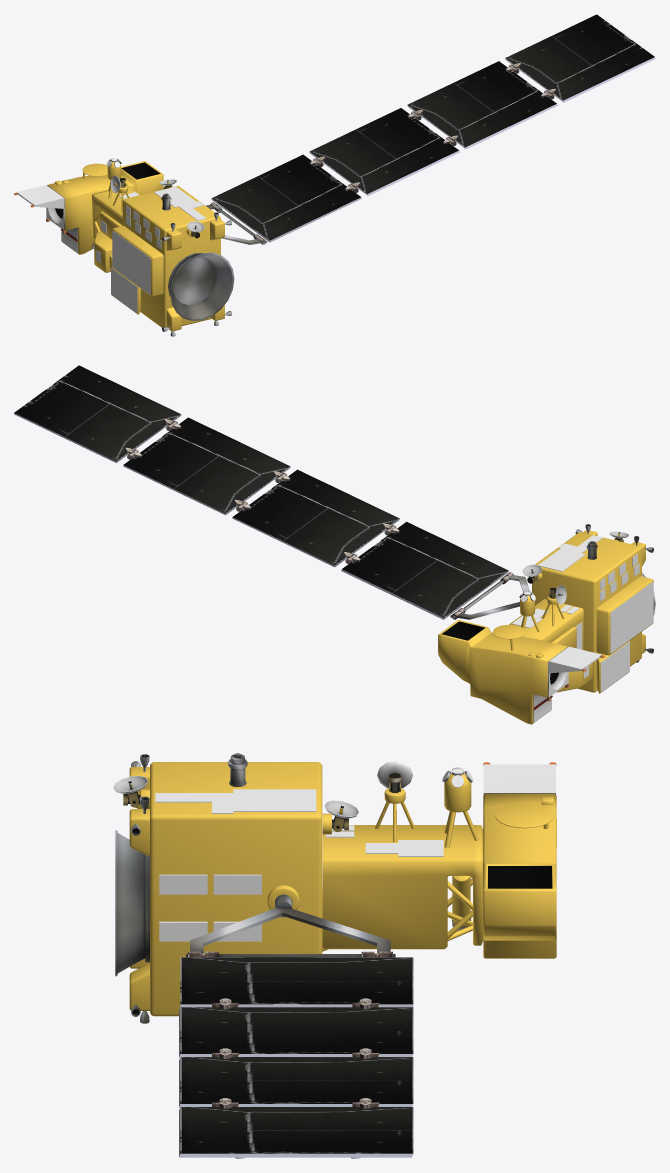
File: LandSat7.gltf
The picture shows the model from 3 angles, top to bottom: view 1: azimuth 30°, elevation 25°; view 2: azimuth 150°, elevation 25°; view 3: azimuth 270°, elevation 25°; orthographic projection. The views are drawn at different scales.
Visible parts, largest first — view 1: instruments, BUS, Reflectors; view 2: instruments, BUS, Reflectors; view 3: instruments, BUS, Reflectors.
Part boxes in pixels (x1=…): instruments: x1=14, y1=14, x2=655, y2=336; BUS: x1=47, y1=161, x2=224, y2=331; Reflectors: x1=96, y1=186, x2=206, y2=313; instruments: x1=14, y1=365, x2=655, y2=722; BUS: x1=438, y1=530, x2=653, y2=724; Reflectors: x1=512, y1=535, x2=653, y2=692; instruments: x1=113, y1=753, x2=556, y2=1157; BUS: x1=129, y1=762, x2=556, y2=1016; Reflectors: x1=155, y1=789, x2=443, y2=941.
Bounding box in the file's own units: 13.4 × 3.78 × 4.7.
7 materials, 3 textured.
